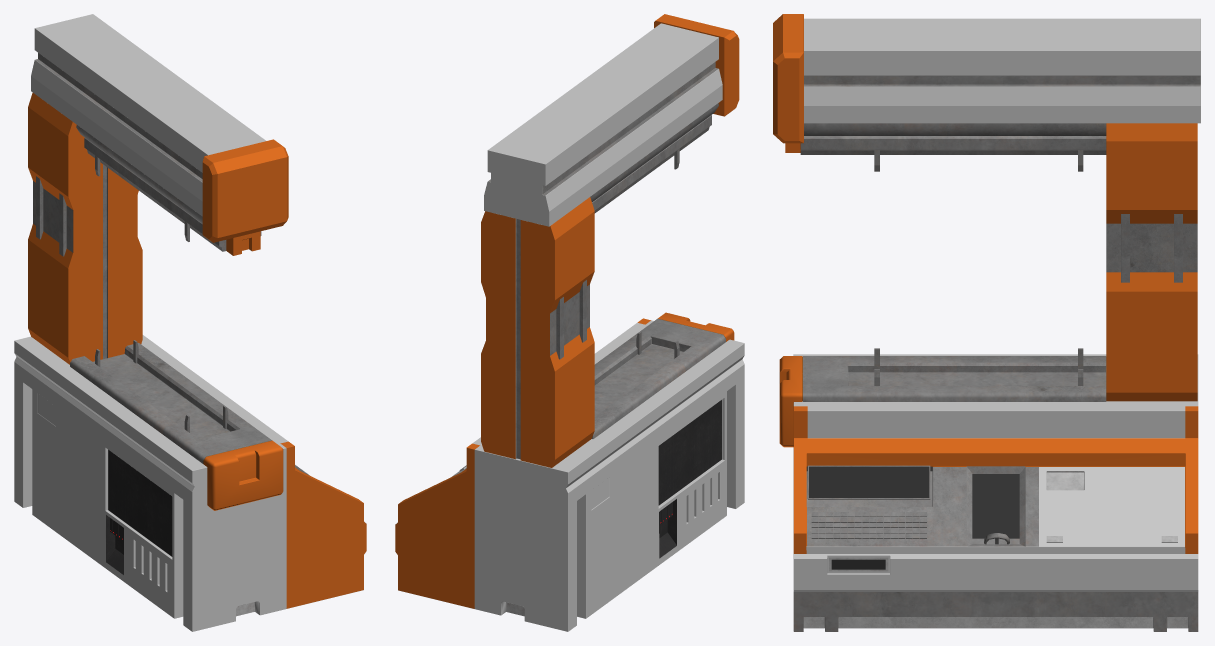
The model's file is Hologram_wall.fbx.
3 renders of one model, left to right at view 1: azimuth 30°, elevation 25°; view 2: azimuth 150°, elevation 25°; view 3: azimuth 270°, elevation 25°, orthographic. The views are drawn at different scales.
Parts seen in each view (by area): view 1: Hologram_wall; view 2: Hologram_wall; view 3: Hologram_wall.
Boxes of the visible parts, bbox=[...] form: Hologram_wall: bbox=[14, 14, 366, 631]; Hologram_wall: bbox=[395, 14, 744, 631]; Hologram_wall: bbox=[773, 14, 1200, 631].
Bounding box in the file's own units: 149 × 381 × 278.
